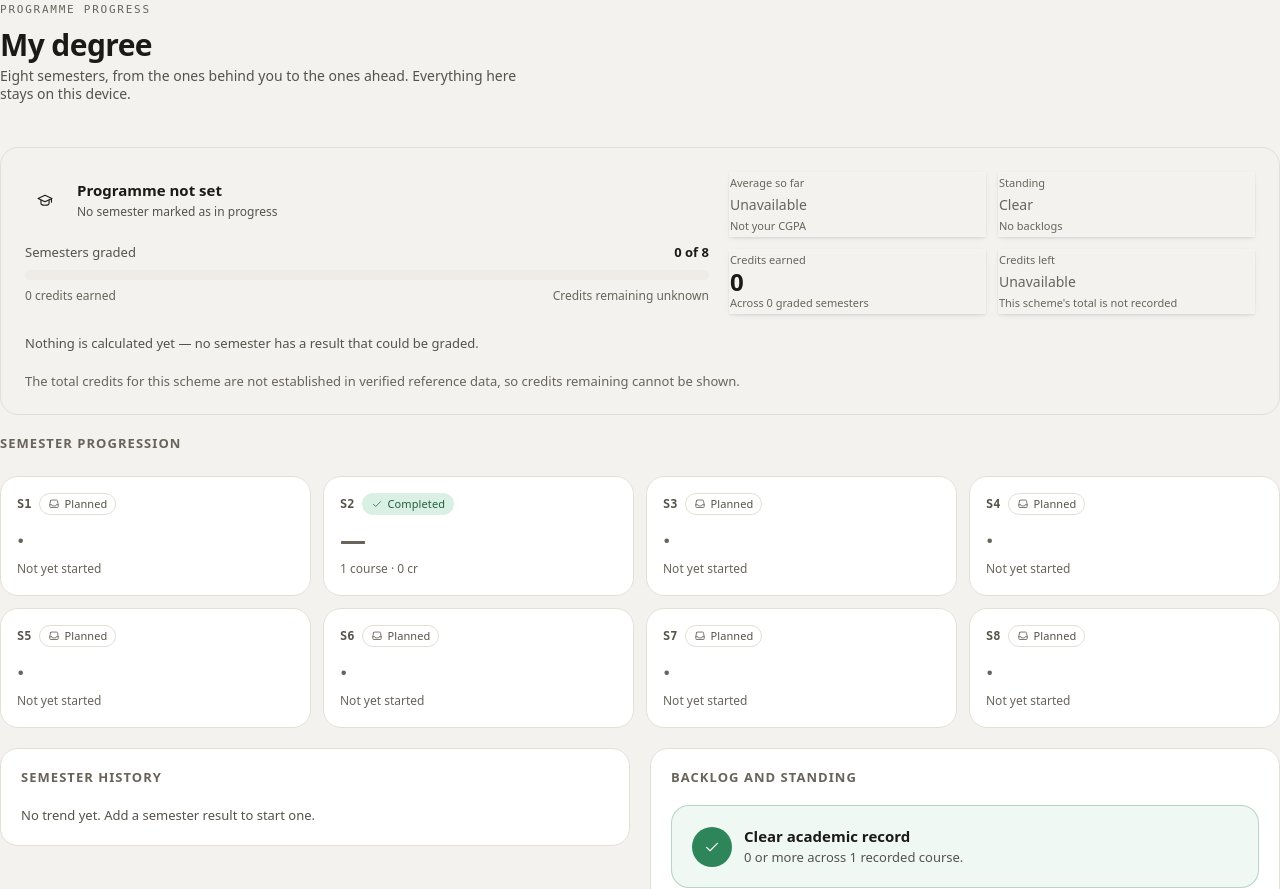
Test: a semester whose rules this build does not have › names the subjects that stopped an SGPA rather than only dashing it
What coordinates should you click on to do the following:
click the button "S2 Completed — 1 course · 0 cr"
I would click on:
 (408, 504)
Its box is 323,476 -> 634,596.
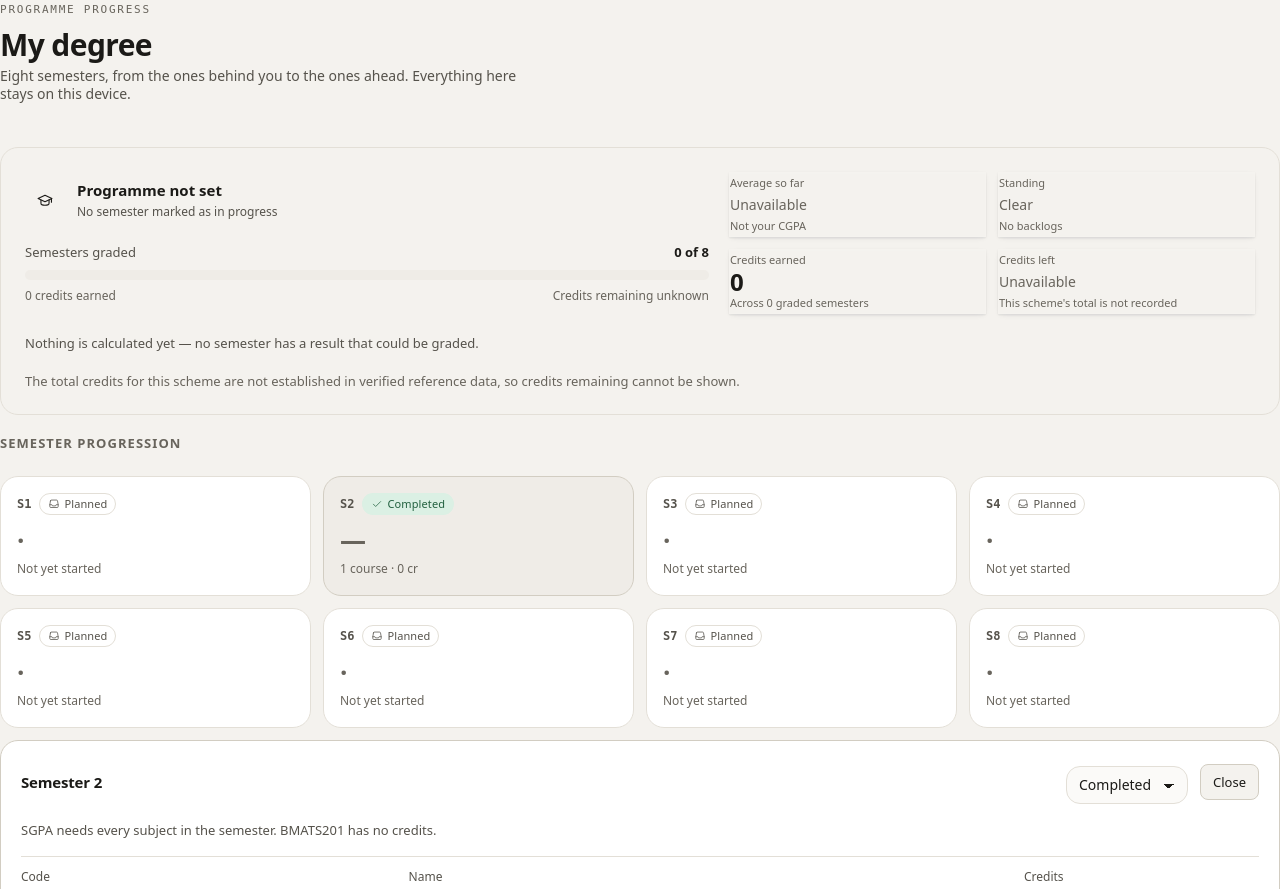
Now the text "BMATS201 has no credits" is shown, box 21,821 -> 436,839
